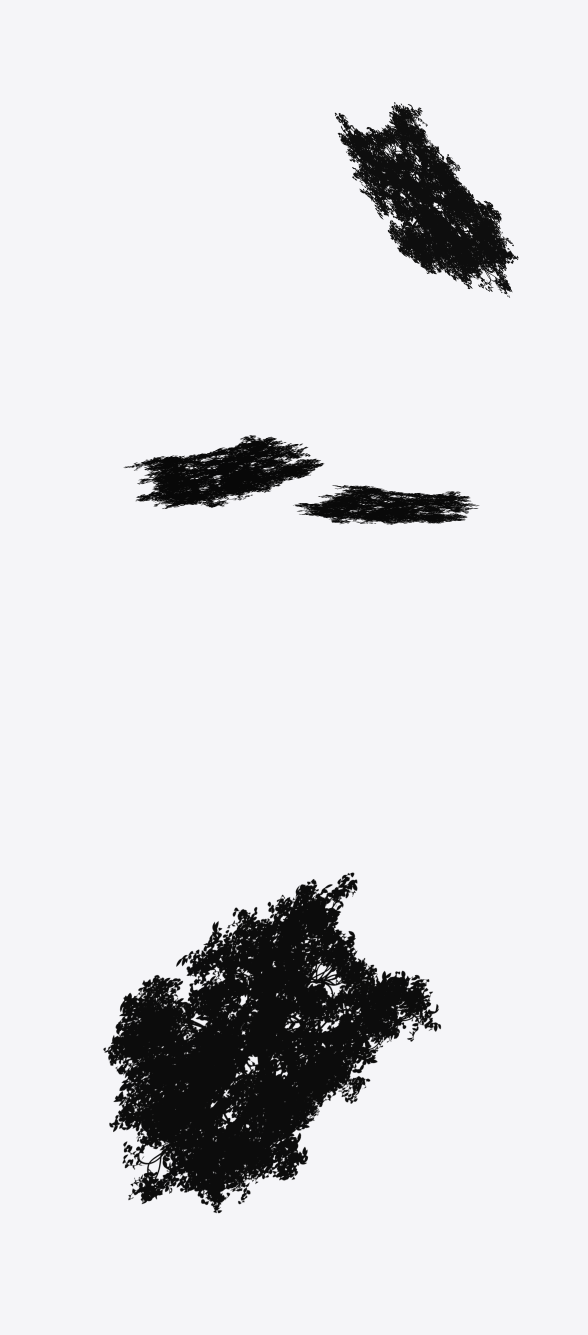
Rendered from gobos.glb.
3 views of the same model, one above another, from view 1: azimuth 30°, elevation 25°; view 2: azimuth 150°, elevation 25°; view 3: azimuth 270°, elevation 25° (orthographic). The views are drawn at different scales.
Visible parts, largest first — view 1: Gobo_One; view 2: Gobo_One, Gobo_Two; view 3: Gobo_One.
Part boxes in pixels (x1,y1,x2,y2): Gobo_One: (335, 102, 518, 297); Gobo_One: (124, 435, 323, 508); Gobo_Two: (293, 485, 478, 524); Gobo_One: (103, 872, 440, 1212).
Size of the model in its own units: 143 by 77.18 by 86.68.
Materials: 1 (1 with a texture image).
